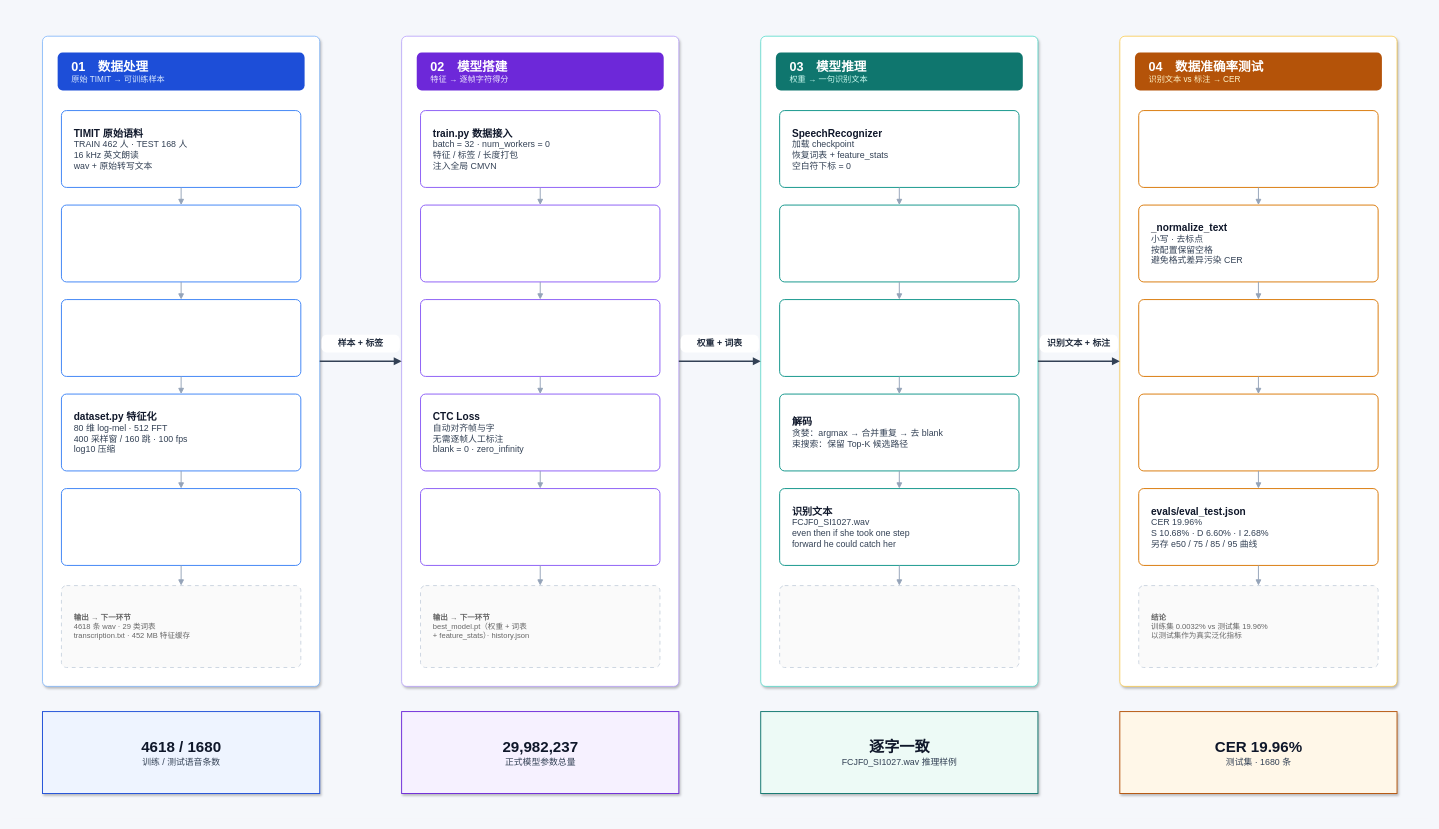
The diagram is 1439 pixels wide and 829 high, and some of its shapes have lost their labels. Here are the shapes that lost their labels. From the top down, the centre of each, then its label:
At point 1258,149: "evaluate_model 测试集 1680 条逐条推理 收集识别文本与标准标注 形成两份平行文本".
At point 181,243: "prepare_timit.py 筛选 1–8 s · 单声道 写标准 wav + transcription.txt 统计字符表".
At point 540,243: "model.py 主干 输入投影 → 5 层 BiLSTM → 输出投影 29,982,237 个参数".
At point 899,243: "extract_features 80 维 log-mel 与训练完全相同的参数 全局 CMVN 归一化".
At point 181,338: "vocab.json（29 类） blank + 空格 + 撇号 + a–z blank_id = 0 封闭词表，无 UNK".
At point 540,338: "逐帧字符得分 输出形状 [B, T, 29] 每一帧给出 29 个字符打分".
At point 899,338: "model.forward 输出 [B, T, 29] 逐帧字符概率".
At point 1258,338: "编辑距离 逐句回溯对齐 替换 S · 删除 D · 插入 I".
At point 1258,432: "语料级 CER Σ(S+D+I) / Σ参考字数 15,721 / 78,758 长句权重自然更大".
At point 181,527: "全局 CMVN + 缓存 1,409,882 帧统计量 特征 .npy 缓存 452 MB 训练 / 推理共用同一契约".
At point 540,527: "训练与选优 AdamW · warmup + 余弦退火 AMP 混合精度 · 梯度裁剪 5.0 按验证损失保存 best_model".
At point 899,626: "输出 → 下一环节 每个测试样本的识别文本 可直接与标准标注逐字比对".
